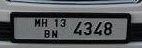1: (54, 17, 59, 28)
3: (82, 21, 93, 37), (59, 18, 66, 28)
4: (93, 21, 104, 37), (73, 20, 83, 36)
8: (103, 21, 113, 36)
B: (43, 29, 51, 38)
H: (41, 17, 48, 28)
M: (34, 18, 41, 27)
N: (50, 28, 59, 39)
